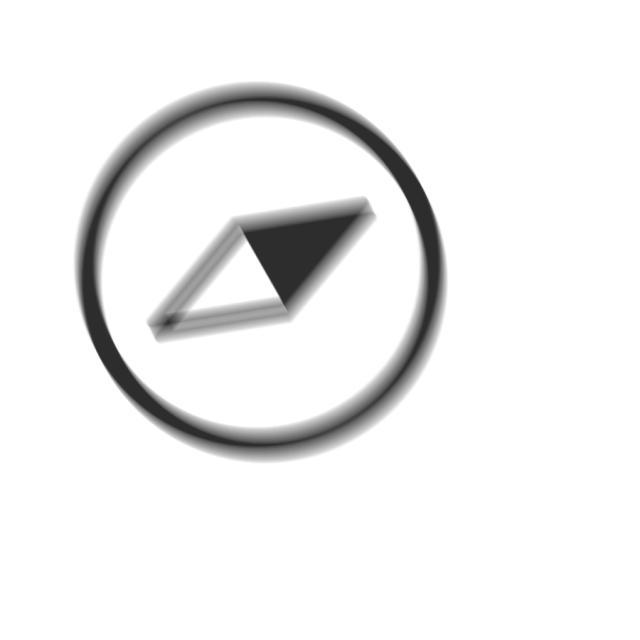compass: (71, 80, 455, 472)
